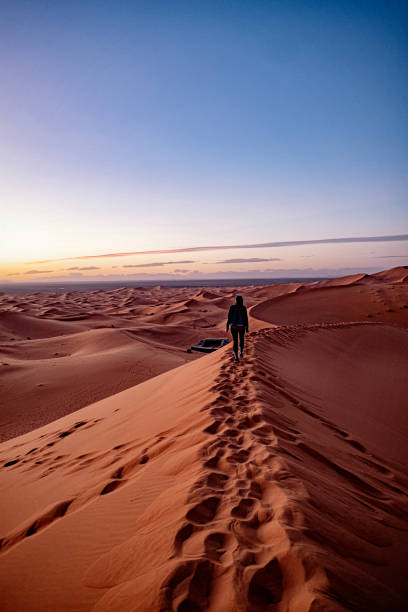human_footprint: (162, 363, 283, 610)
